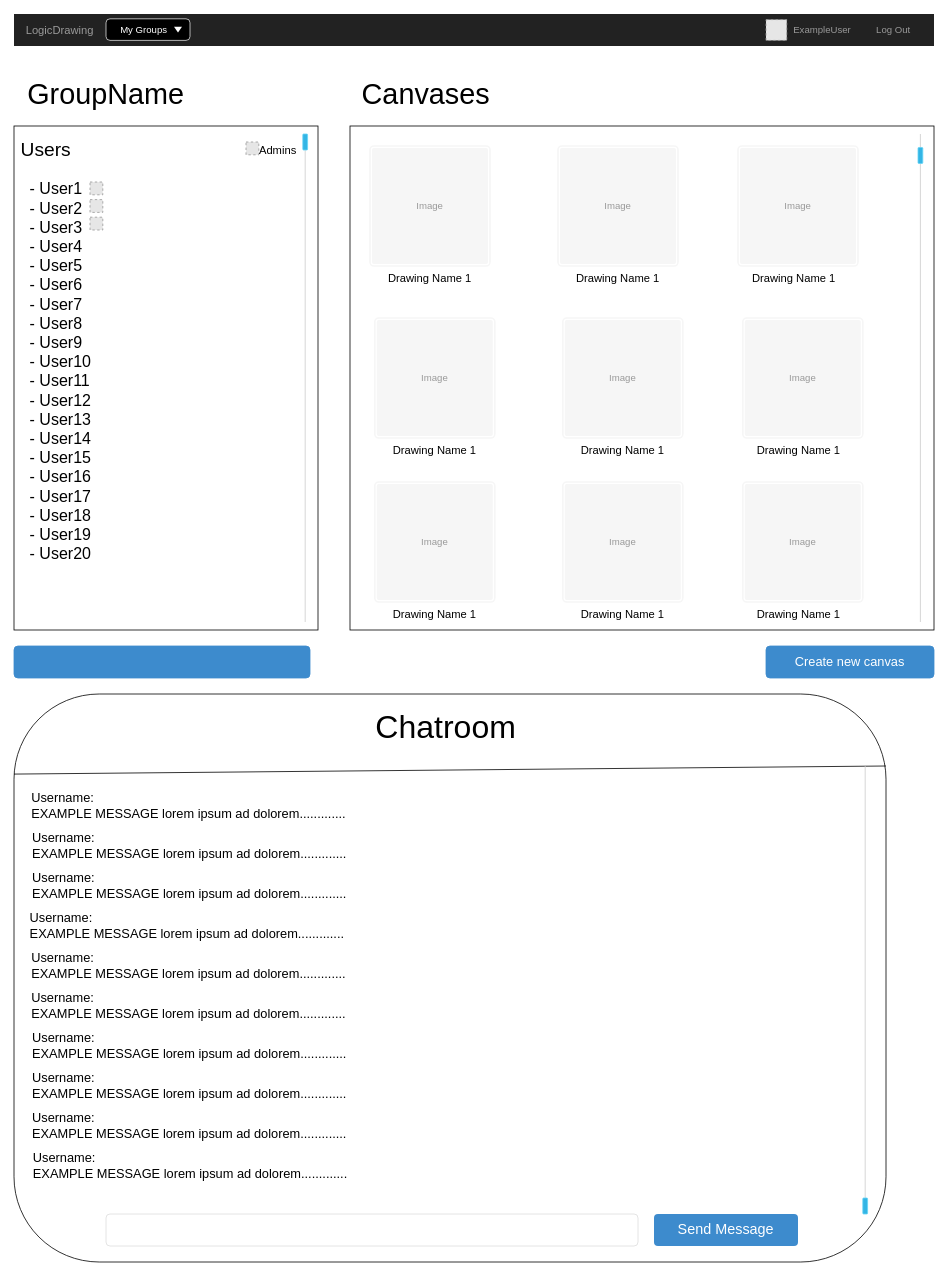
This 948x1276 diagram has some shape labels left out. Grey dashed boxes stand in for pictures. Each missing label, with the centre of its shape:
"Add user" belongs at [161,661].
"Send a message!" belongs at [371,1229].
